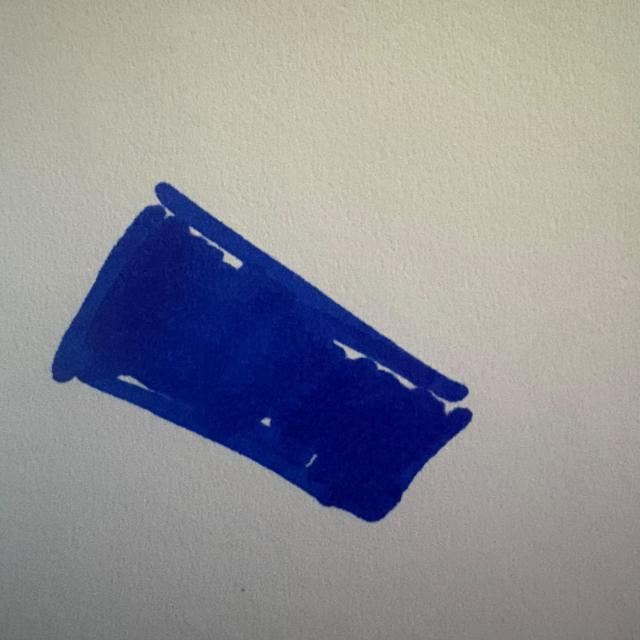Rectangle: (52, 183, 473, 522)
